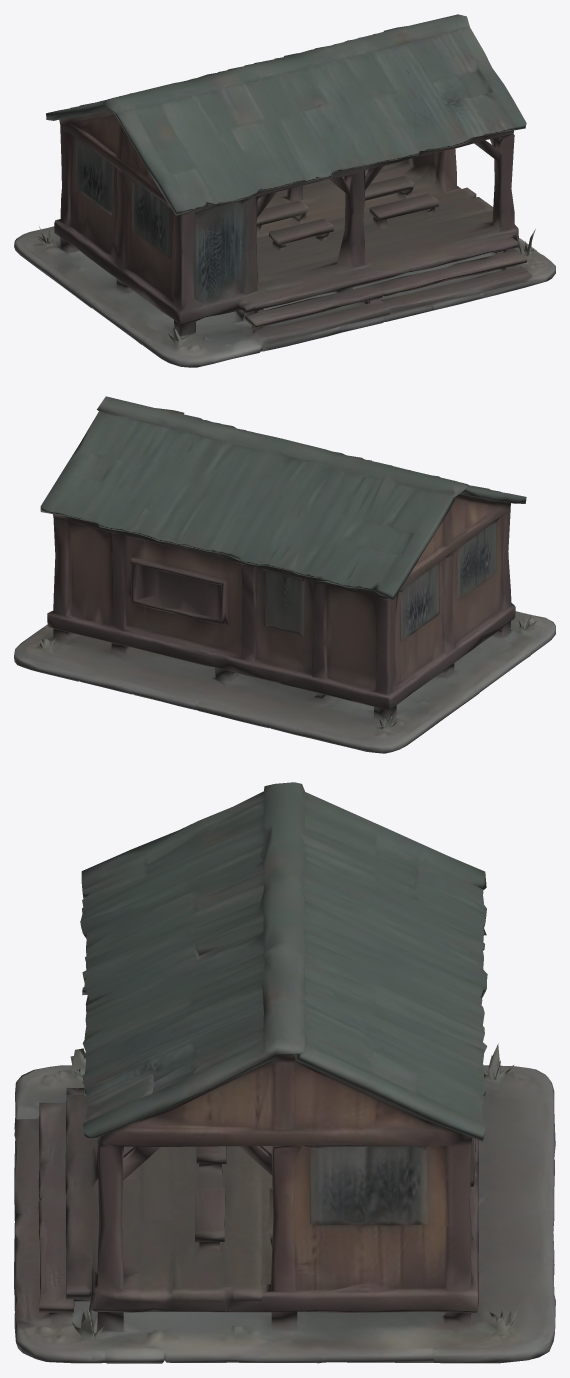
File: community_hall_main.glb
3 renders of one model, top to bottom at view 1: azimuth 30°, elevation 25°; view 2: azimuth 150°, elevation 25°; view 3: azimuth 270°, elevation 25°, orthographic. The views are drawn at different scales.
Parts seen in each view (by area): view 1: tripo_node_dad7b7a7-d812-43b1-a910-bf7bfaf4eb94; view 2: tripo_node_dad7b7a7-d812-43b1-a910-bf7bfaf4eb94; view 3: tripo_node_dad7b7a7-d812-43b1-a910-bf7bfaf4eb94.
Boxes of the visible parts, x1,y1,x2,y2 form: tripo_node_dad7b7a7-d812-43b1-a910-bf7bfaf4eb94: (14, 14, 555, 367); tripo_node_dad7b7a7-d812-43b1-a910-bf7bfaf4eb94: (14, 396, 555, 753); tripo_node_dad7b7a7-d812-43b1-a910-bf7bfaf4eb94: (14, 782, 555, 1363).
Size of the model in its own units: 1 by 0.4999 by 0.7862.
1 material, 1 textured.
